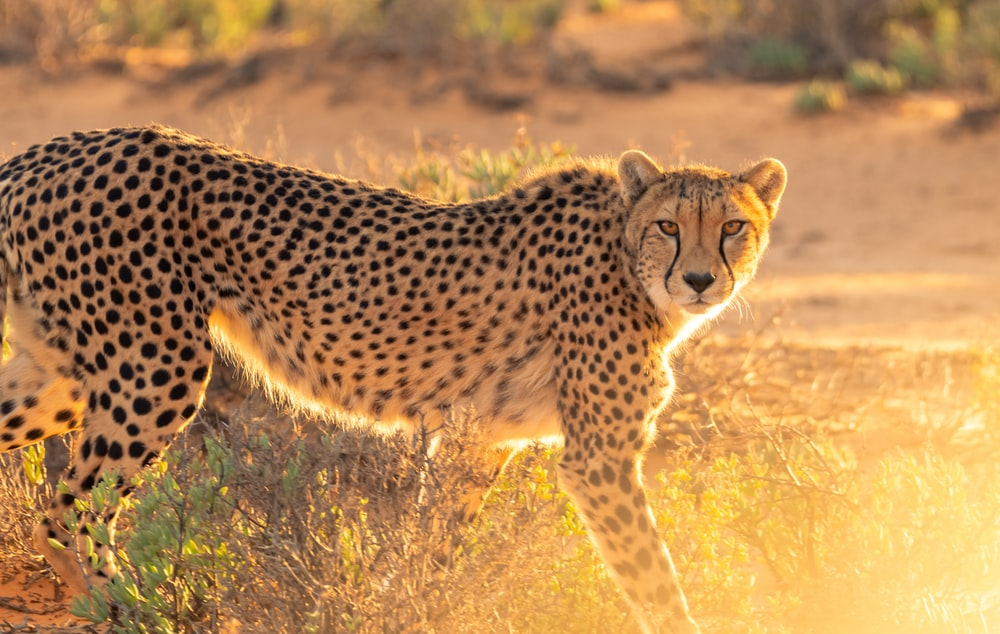cheetah: (594, 132, 802, 333)
